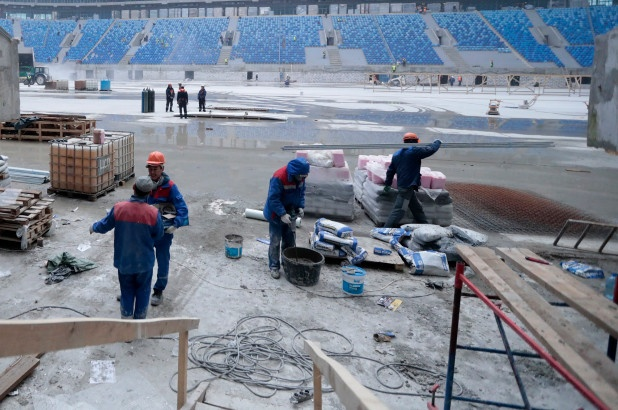blue: (288, 160, 308, 182)
none: (130, 176, 152, 199)
red: (145, 151, 165, 179), (401, 131, 419, 149)
